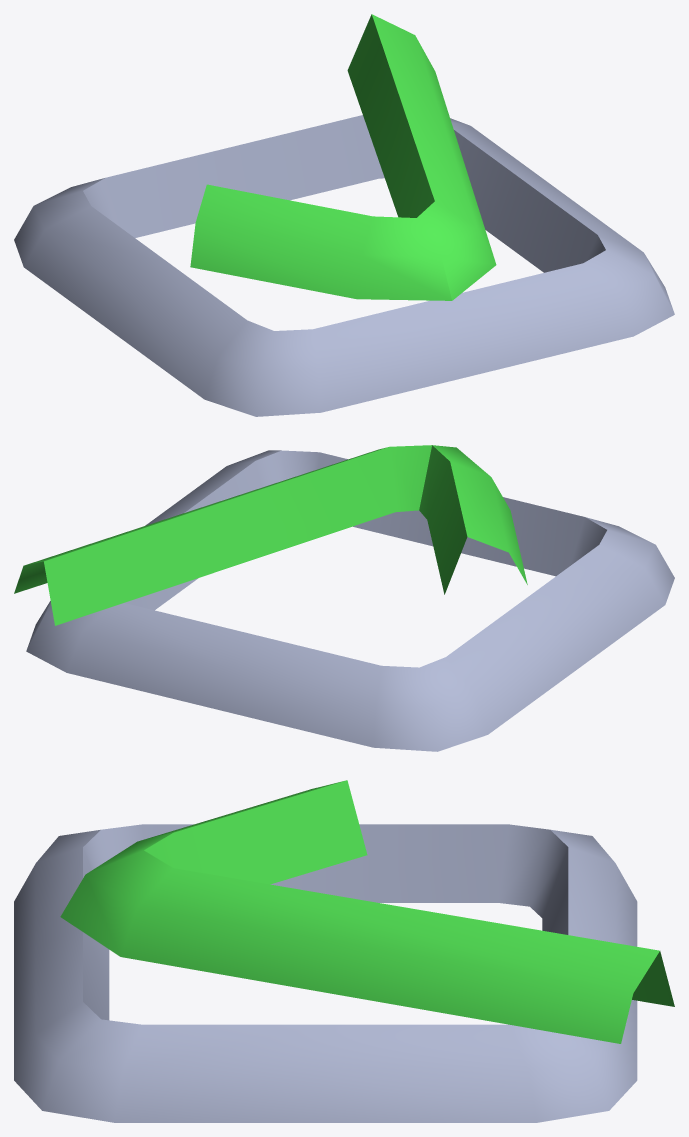
Rendered from CheckBox.fbx.
The picture shows the model from 3 angles, top to bottom: view 1: azimuth 30°, elevation 25°; view 2: azimuth 150°, elevation 25°; view 3: azimuth 270°, elevation 25°; orthographic projection. The views are drawn at different scales.
Parts seen in each view (by area): view 1: Circle_004, Circle_003; view 2: Circle_004, Circle_003; view 3: Circle_004, Circle_003.
Part boxes in pixels (x1,y1,x2,y2): Circle_004: (14,115,674,416); Circle_003: (190,14,496,300); Circle_004: (26,450,674,751); Circle_003: (14,445,527,625); Circle_004: (14,824,637,1122); Circle_003: (60,780,674,1043).
Bounding box in the file's own units: 2 × 0.4868 × 2.12.
